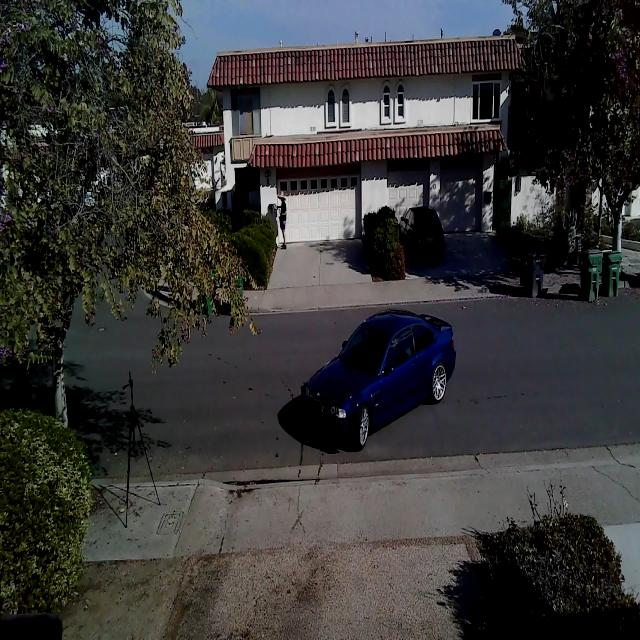Carbeetle: (291, 308, 465, 455)
Civilian: (399, 205, 445, 263)
